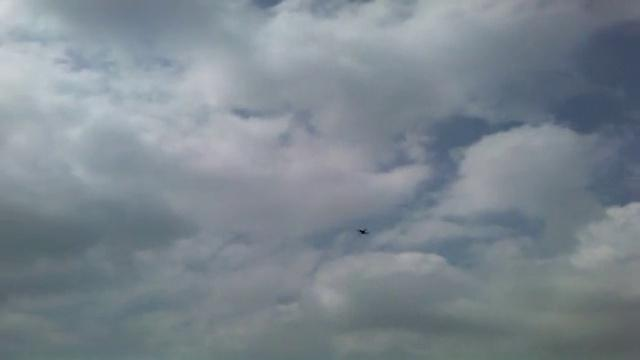drone: (355, 224, 371, 236)
